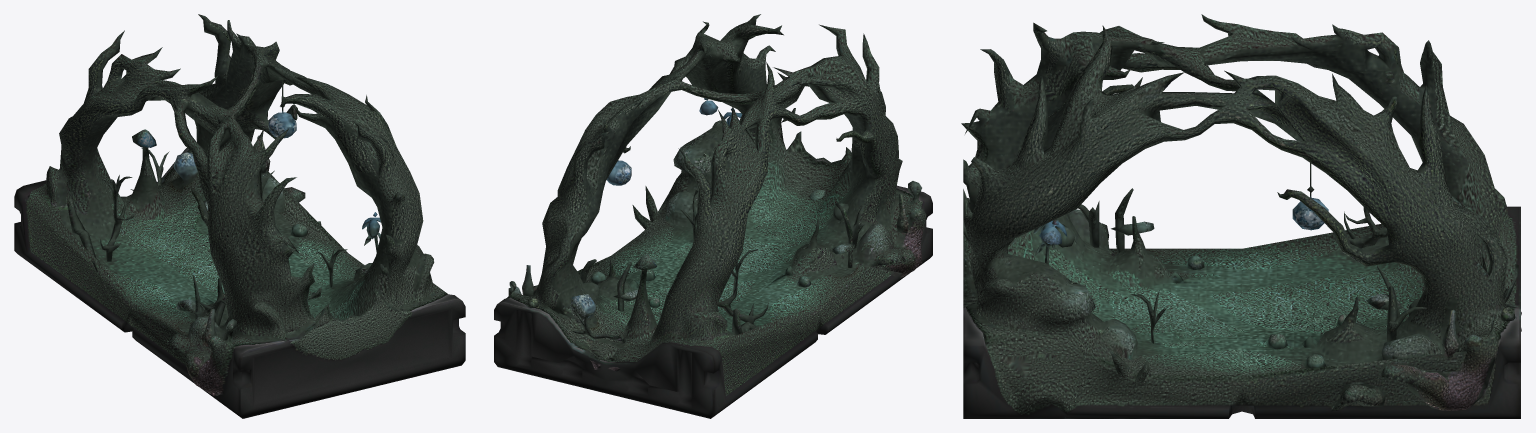
The model's file is ShadowlandsModuleTransition.obj.
3 views of the same model, side by side, from view 1: azimuth 30°, elevation 25°; view 2: azimuth 150°, elevation 25°; view 3: azimuth 270°, elevation 25° (orthographic). The views are drawn at different scales.
Visible parts, largest first — view 1: input; view 2: input; view 3: input.
Boxes of the visible parts, x1,y1,x2,y2 form: input: [14, 14, 465, 418]; input: [494, 14, 932, 418]; input: [961, 14, 1521, 418].
Size of the model in its own units: 0.6634 by 0.6282 by 1.
1 material, 1 textured.
